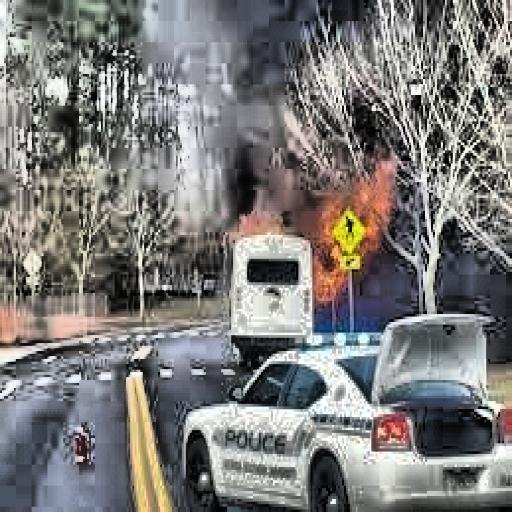fire: (232, 158, 408, 306)
